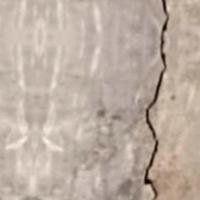crack: (139, 0, 179, 199)
